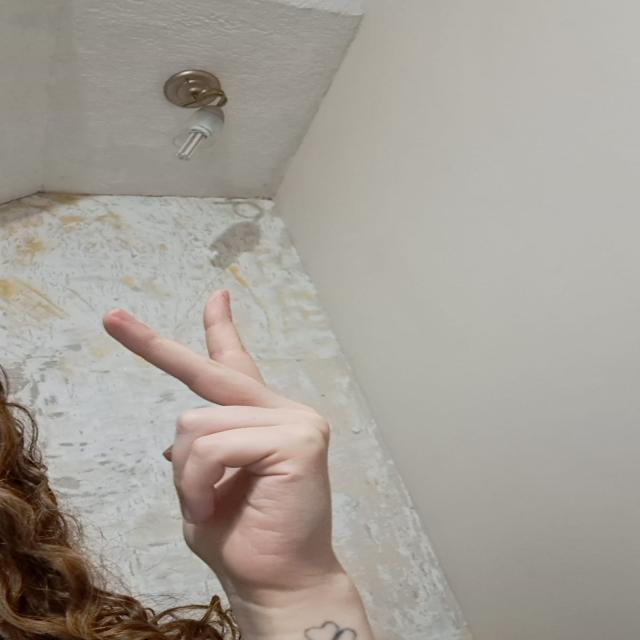K: (101, 272, 347, 572)
